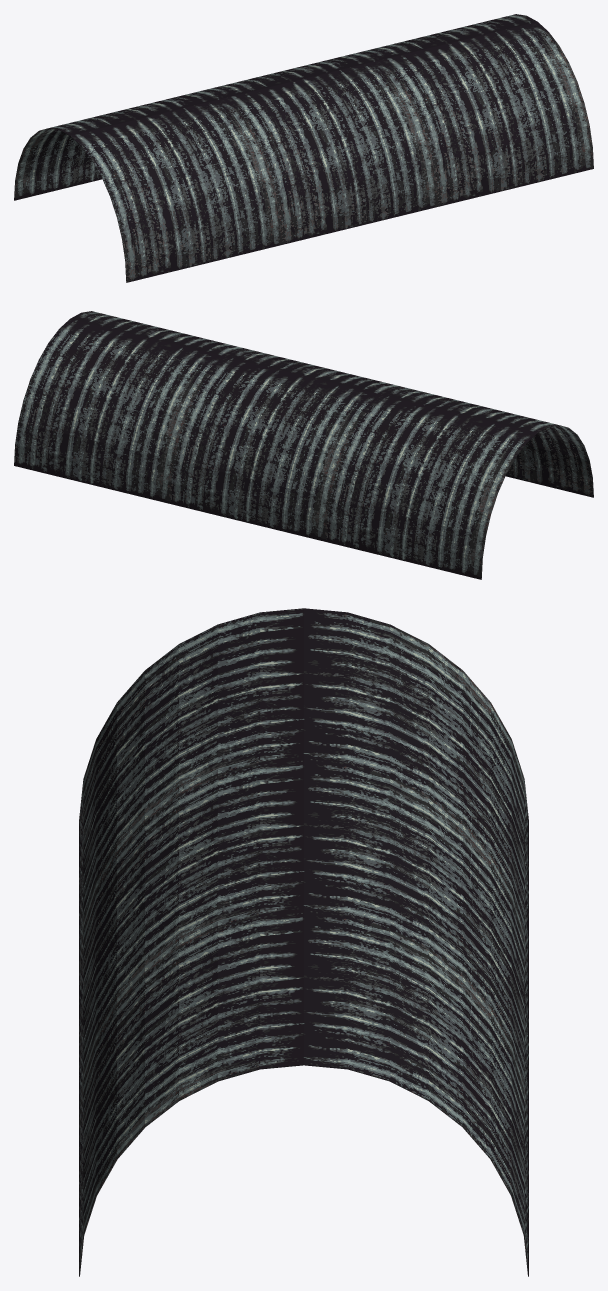
The model's file is SM_EU_MetalTunnel_0.fbx.
The picture shows the model from 3 angles, top to bottom: view 1: azimuth 30°, elevation 25°; view 2: azimuth 150°, elevation 25°; view 3: azimuth 270°, elevation 25°; orthographic projection. The views are drawn at different scales.
Visible parts, largest first — view 1: SM_EU_MetalTunnel_0; view 2: SM_EU_MetalTunnel_0; view 3: SM_EU_MetalTunnel_0.
Boxes of the visible parts, left/top/right/bottom form: SM_EU_MetalTunnel_0: left=14, top=14, right=593, bottom=282; SM_EU_MetalTunnel_0: left=14, top=311, right=593, bottom=579; SM_EU_MetalTunnel_0: left=79, top=608, right=528, bottom=1276.
Bounding box in the file's own units: 12 × 5 × 2.6.
